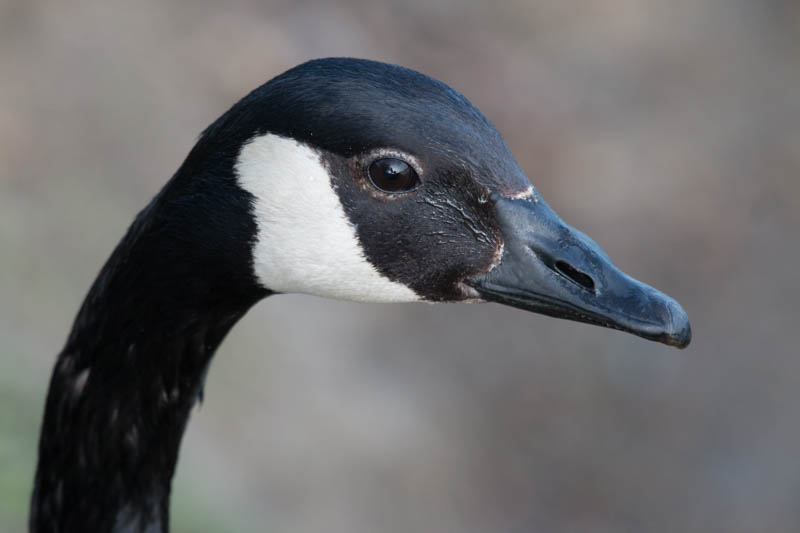goose-head: (154, 57, 693, 351)
